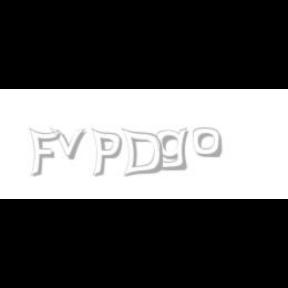D: (120, 128, 164, 178)
F: (28, 128, 60, 178)
P: (90, 128, 122, 178)
g: (156, 128, 192, 171)
o: (192, 128, 222, 158)
v: (50, 128, 90, 160)
